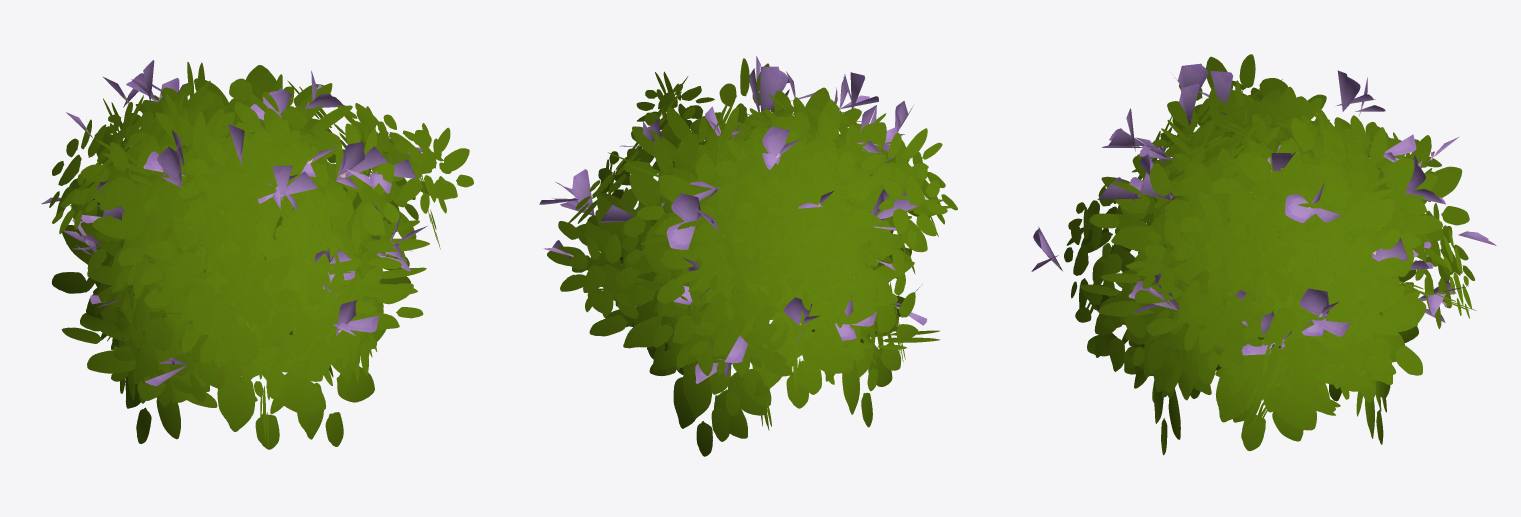
Rendered from bush-common-flowers-lo.glb.
The picture shows the model from 3 angles, left to right: view 1: azimuth 30°, elevation 25°; view 2: azimuth 150°, elevation 25°; view 3: azimuth 270°, elevation 25°; orthographic projection. The views are drawn at different scales.
Visible parts, largest first — view 1: Bush_Common_Flowers; view 2: Bush_Common_Flowers; view 3: Bush_Common_Flowers.
Boxes of the visible parts, <box> form: Bush_Common_Flowers: <box>41,60,473,449</box>; Bush_Common_Flowers: <box>539,56,957,456</box>; Bush_Common_Flowers: <box>1031,54,1496,455</box>.
Bounding box in the file's own units: 1.91 × 1.92 × 1.94.
Materials: 2 (2 with a texture image).
